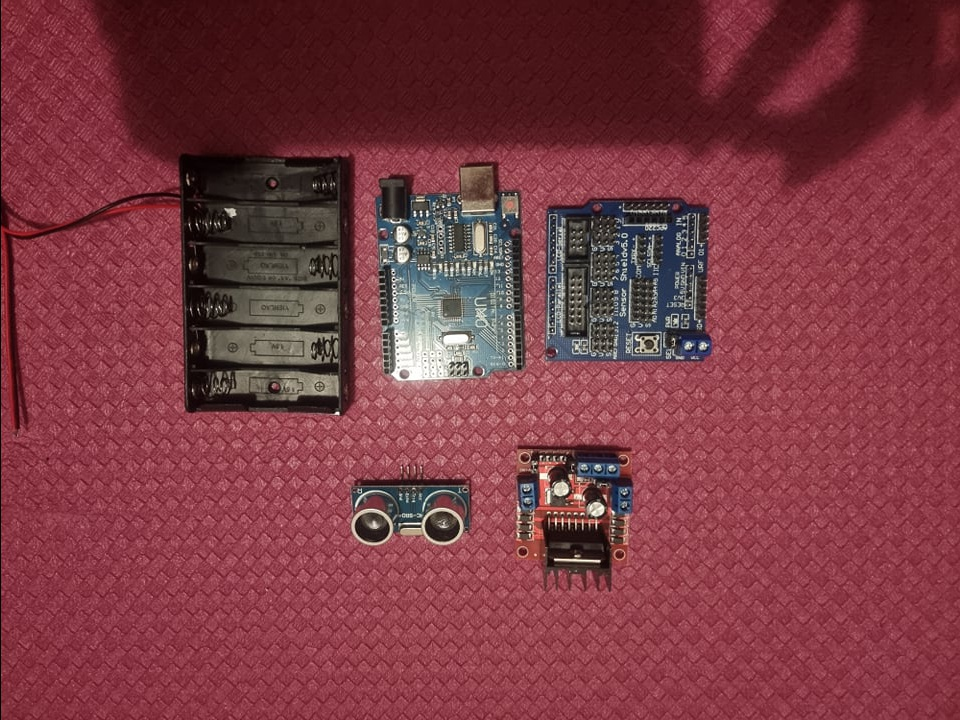5V EXPANSION: (544, 199, 708, 364)
BATTERY BOX: (181, 153, 350, 416)
MOTOR: (511, 450, 631, 591)
SENSOR: (347, 477, 473, 550)
UNO R3: (372, 160, 526, 384)
